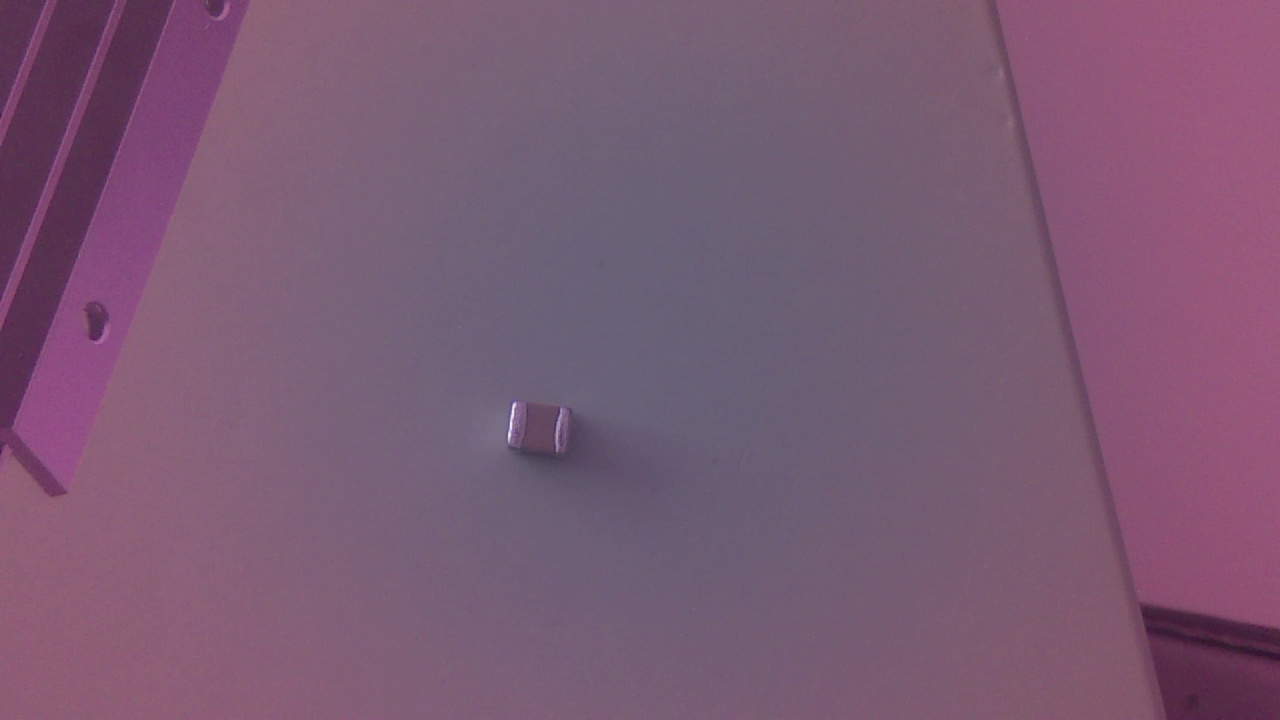Condensator: (505, 400, 583, 470)
